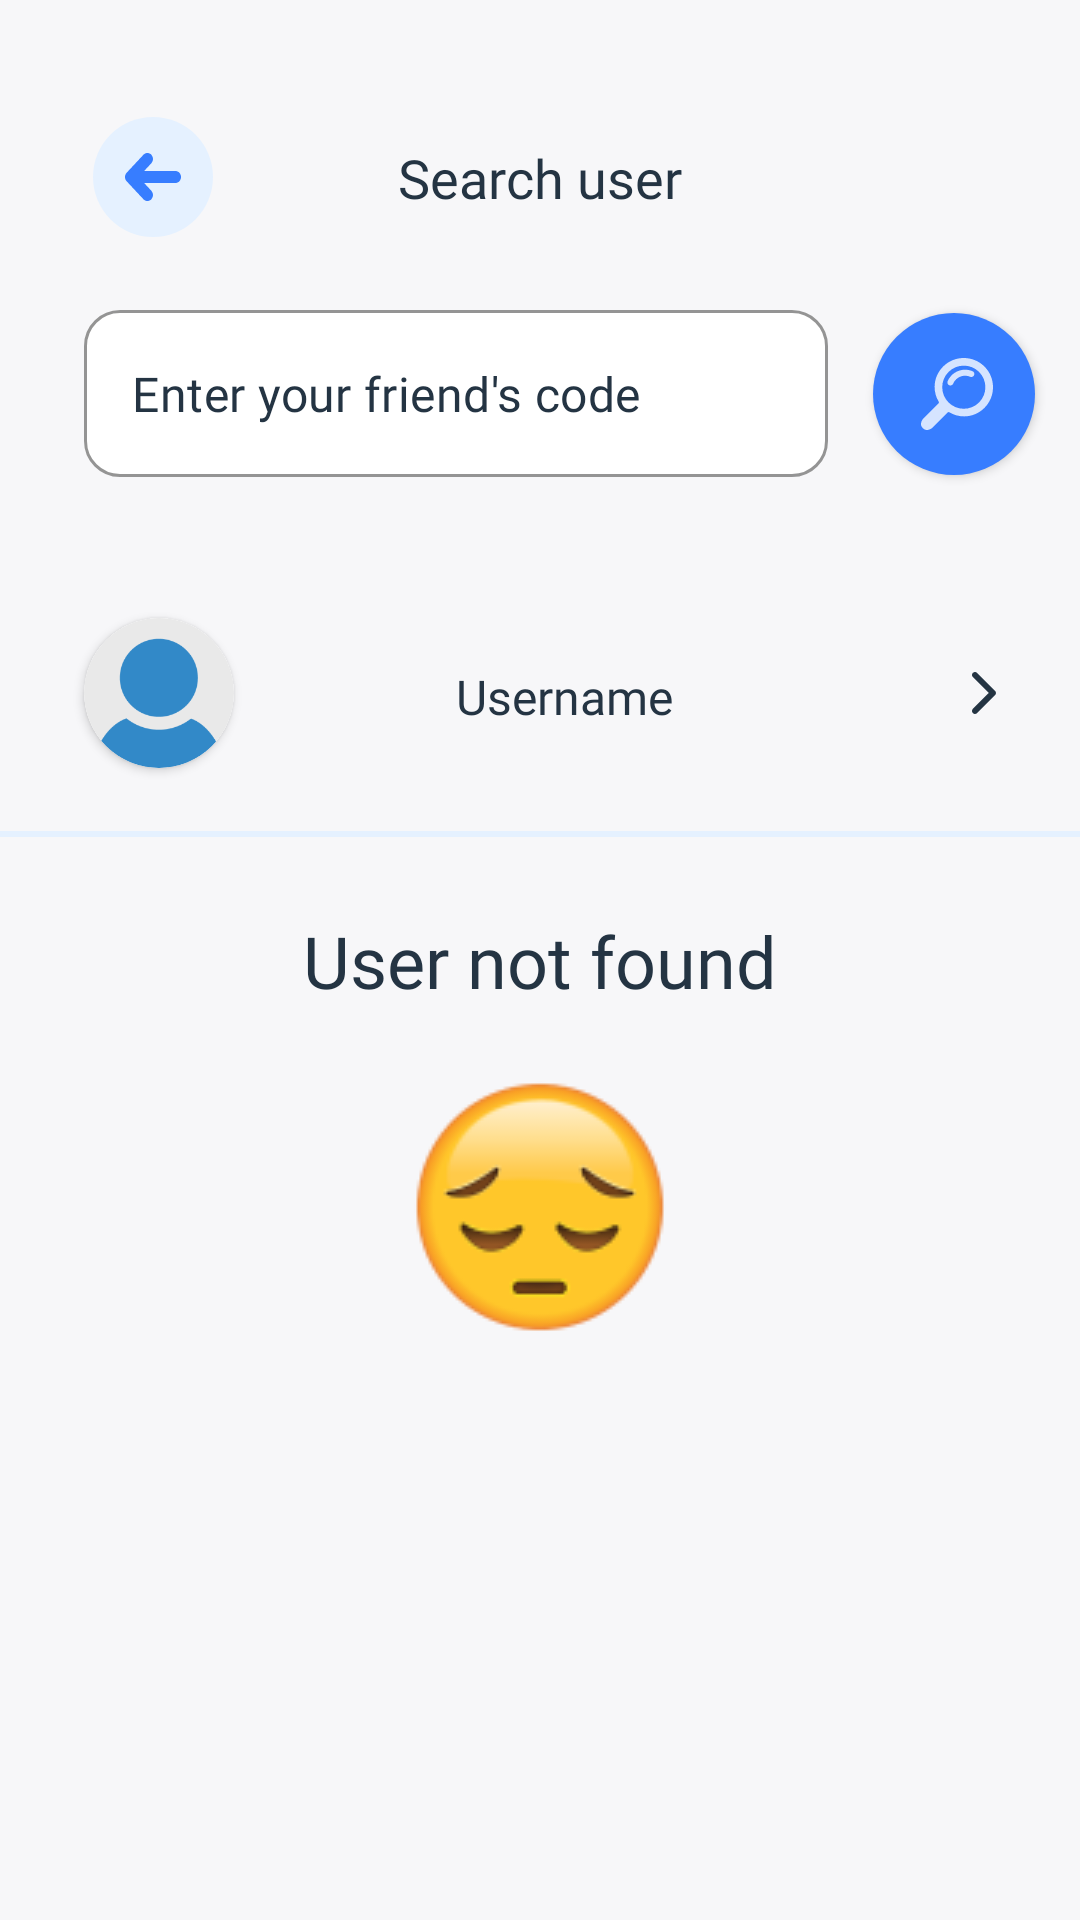

Icons on this 1080*1920 Android screen, each with its box as (x1, y1, x2, y2):
Back button: (93, 117, 213, 237)
Chevron right: (972, 672, 996, 714)
Profile photo: (84, 618, 234, 768)
Sad Emoji: (416, 1083, 664, 1331)
Search button: (873, 313, 1035, 475)
